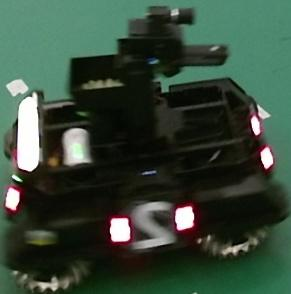armor_2: (109, 206, 195, 244)
light: (18, 91, 42, 172)
right_2: (128, 199, 180, 252)
